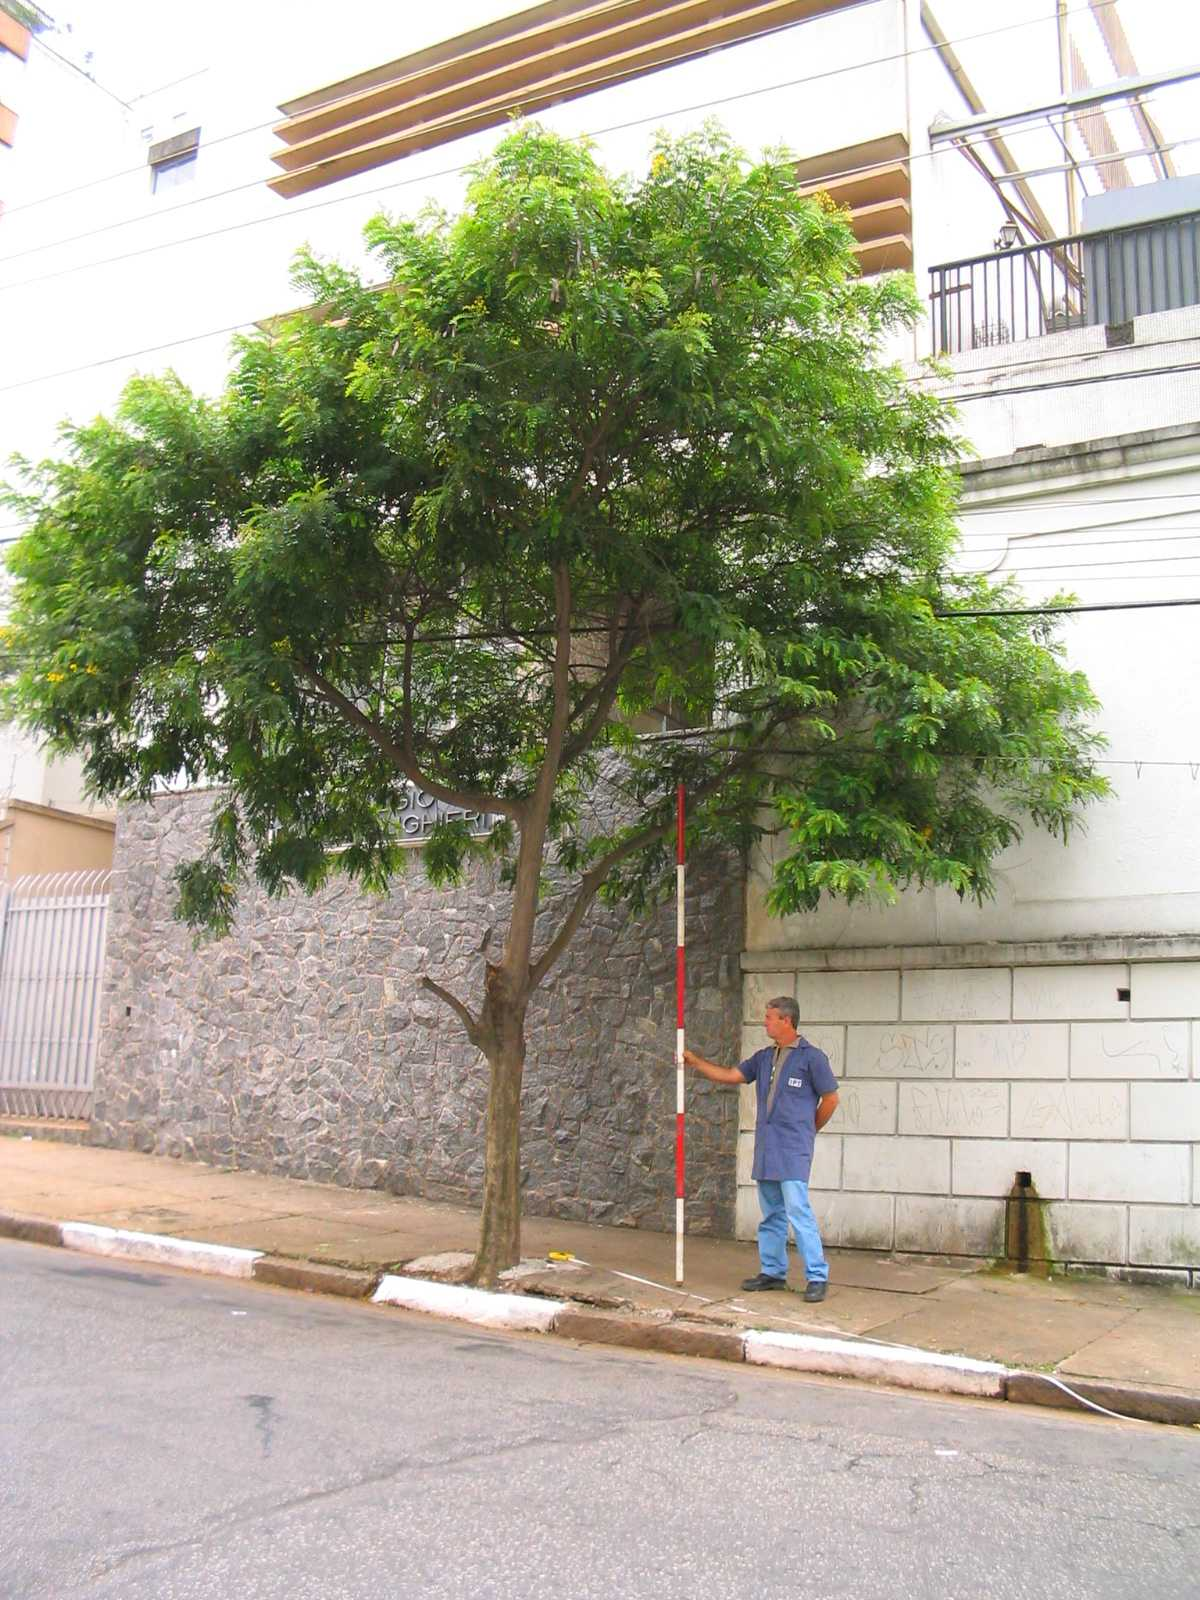crown: (14, 110, 1108, 939)
stem: (418, 976, 553, 1267)
stick: (663, 779, 706, 1283)
tree: (4, 105, 1116, 1275)
